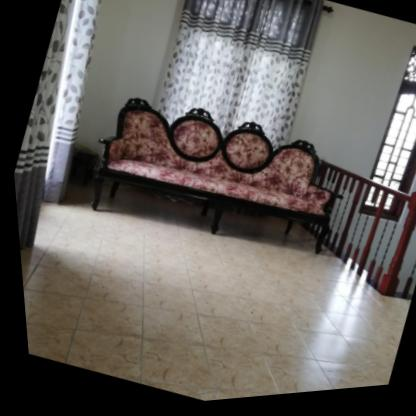Ceramic floor: (16, 203, 405, 404)
Curtains: (158, 0, 323, 154), (11, 0, 101, 251)
Sofa: (66, 68, 362, 295)
